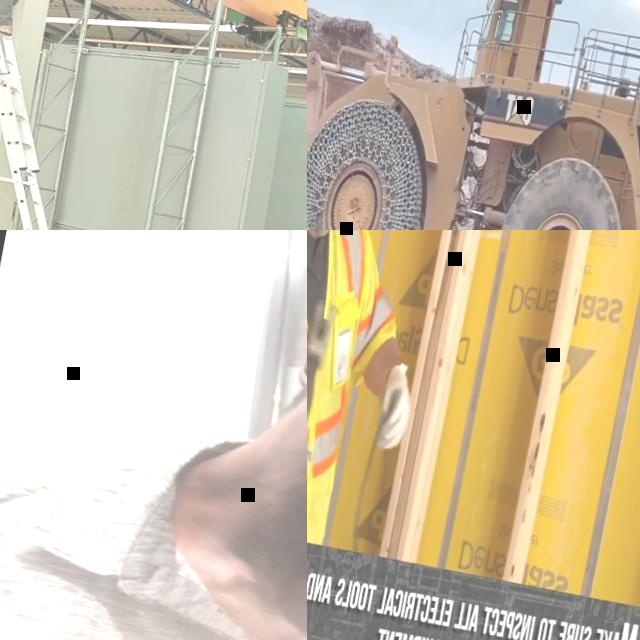NO-Safety Vest: (0, 444, 307, 640)
Person: (0, 230, 307, 640), (307, 230, 480, 559)
Safety Vest: (307, 230, 419, 552)
machinery: (307, 0, 640, 230)
